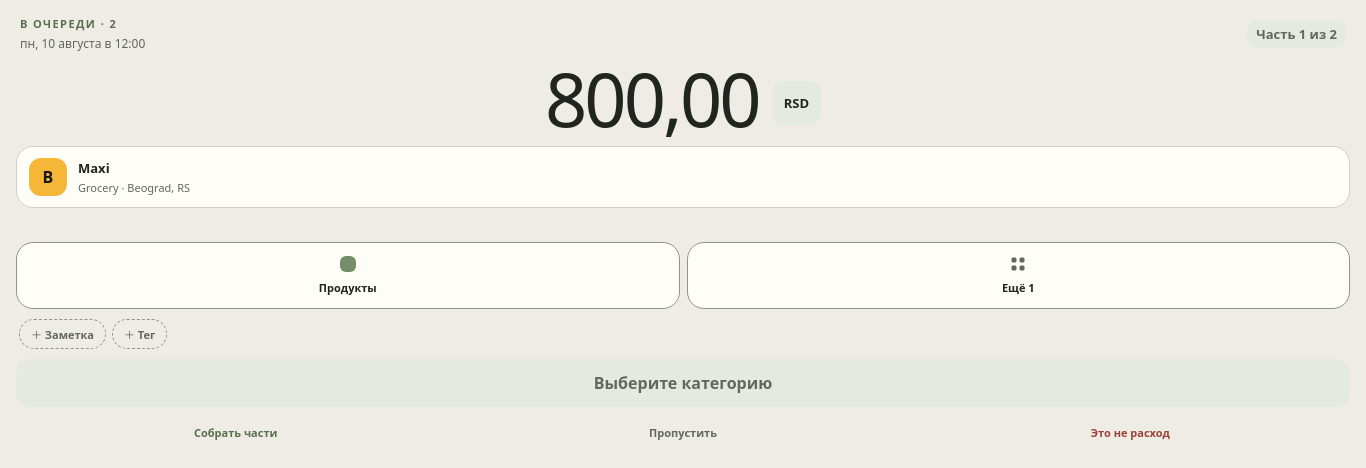
splitting one payment into parts › puts a split payment back together while no part is recorded
Check: the text "Часть 1 из 2" is shown, box [1247, 20, 1346, 48]
Check: the button "Разделить" is not shown
Click the button "Собрать части": (236, 432) [16, 413, 455, 451]
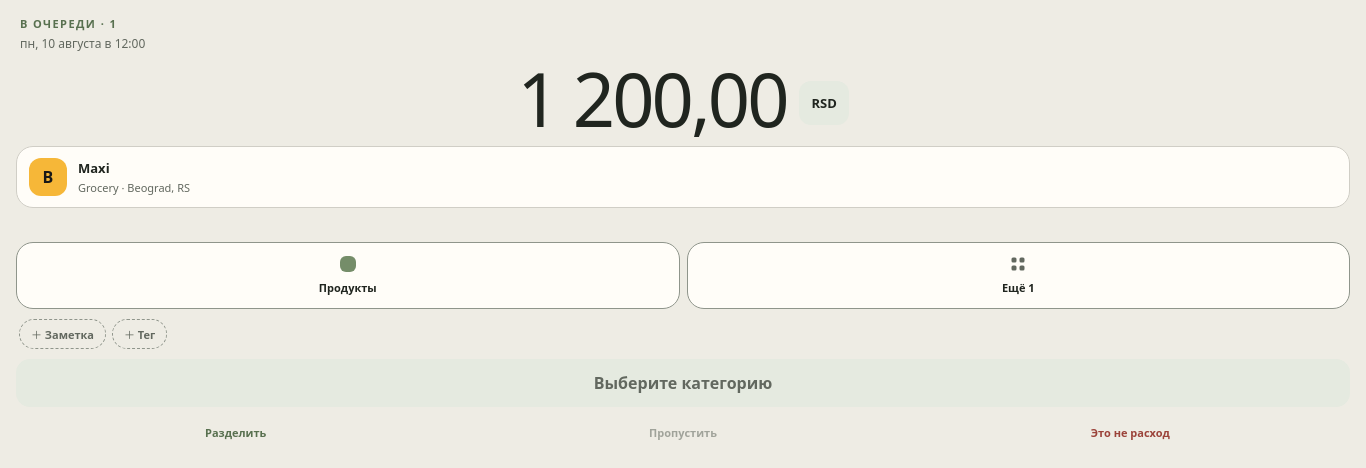
Check: the text "Часть" is gone
Check: the text "В очереди · 1" is shown, box [20, 16, 117, 31]
